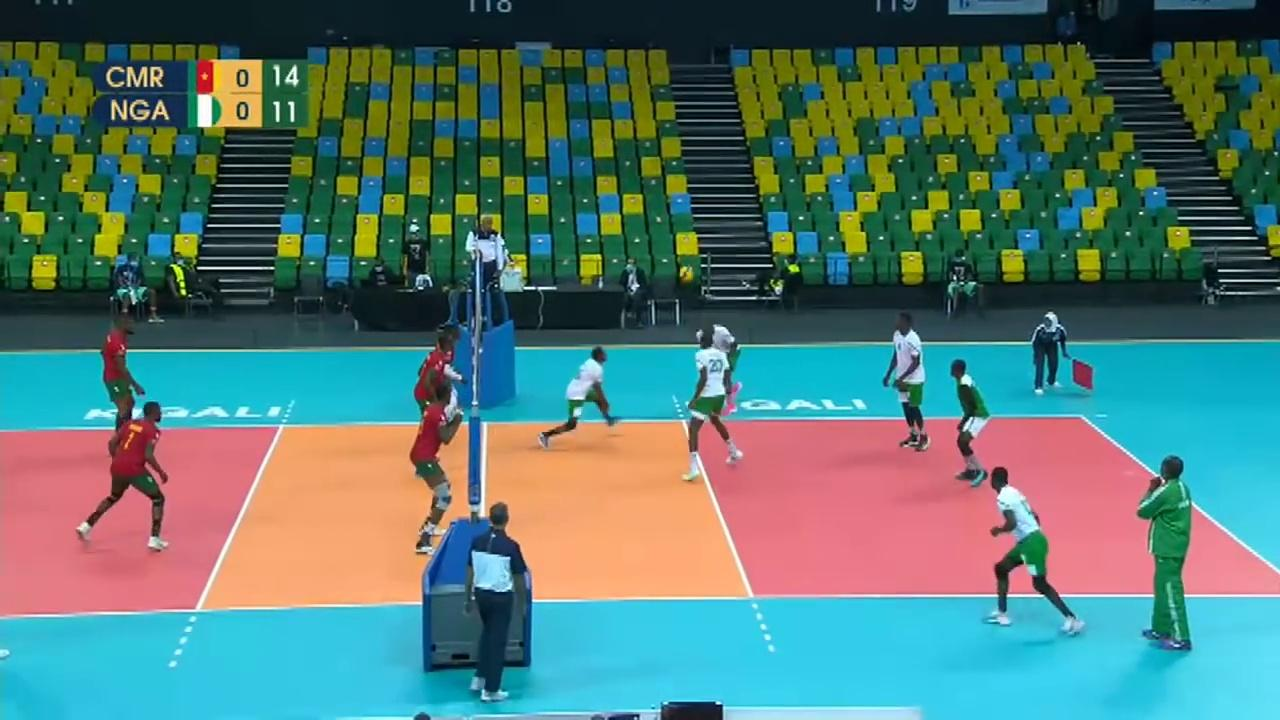player: (984, 467, 1086, 631), (78, 401, 177, 545), (679, 333, 748, 477), (537, 349, 615, 450), (99, 312, 149, 454), (417, 389, 457, 548), (882, 315, 929, 448), (415, 336, 454, 475), (693, 315, 746, 406), (431, 321, 468, 451), (954, 361, 993, 479)
refree: (459, 501, 536, 705), (464, 215, 509, 327), (1032, 309, 1073, 396)
